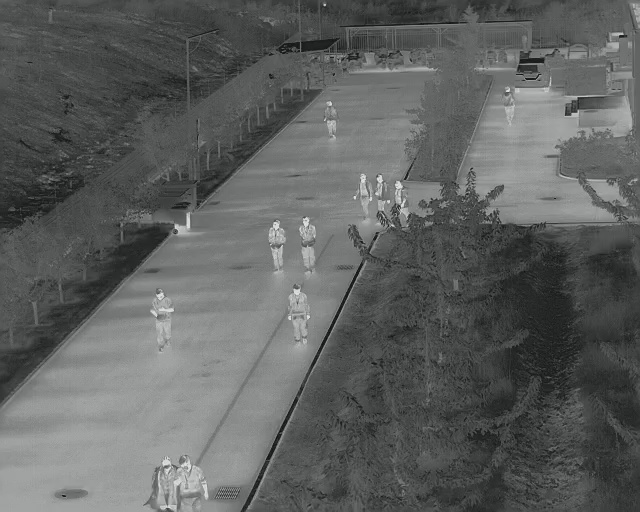person: (172, 452, 211, 512), (144, 454, 176, 510), (148, 288, 174, 355), (288, 284, 312, 346), (298, 215, 319, 276), (268, 218, 289, 276), (351, 170, 372, 221), (323, 99, 343, 140), (502, 85, 516, 126)
vehicle: (513, 55, 554, 94)
